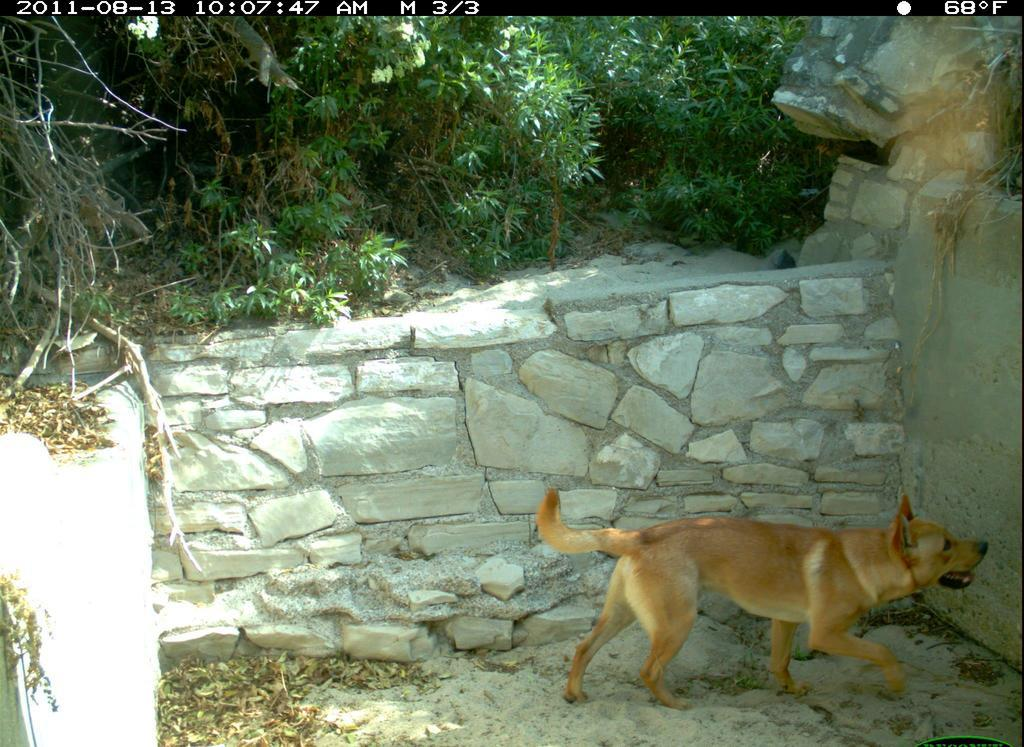dog: (530, 483, 1000, 708)
